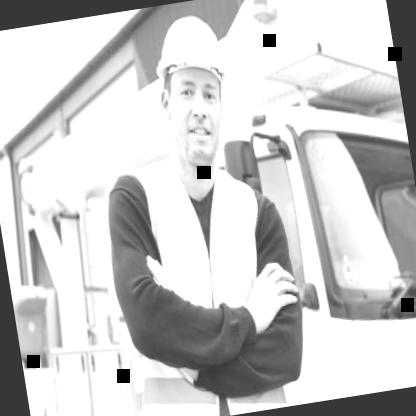helmet: (143, 5, 244, 172)
